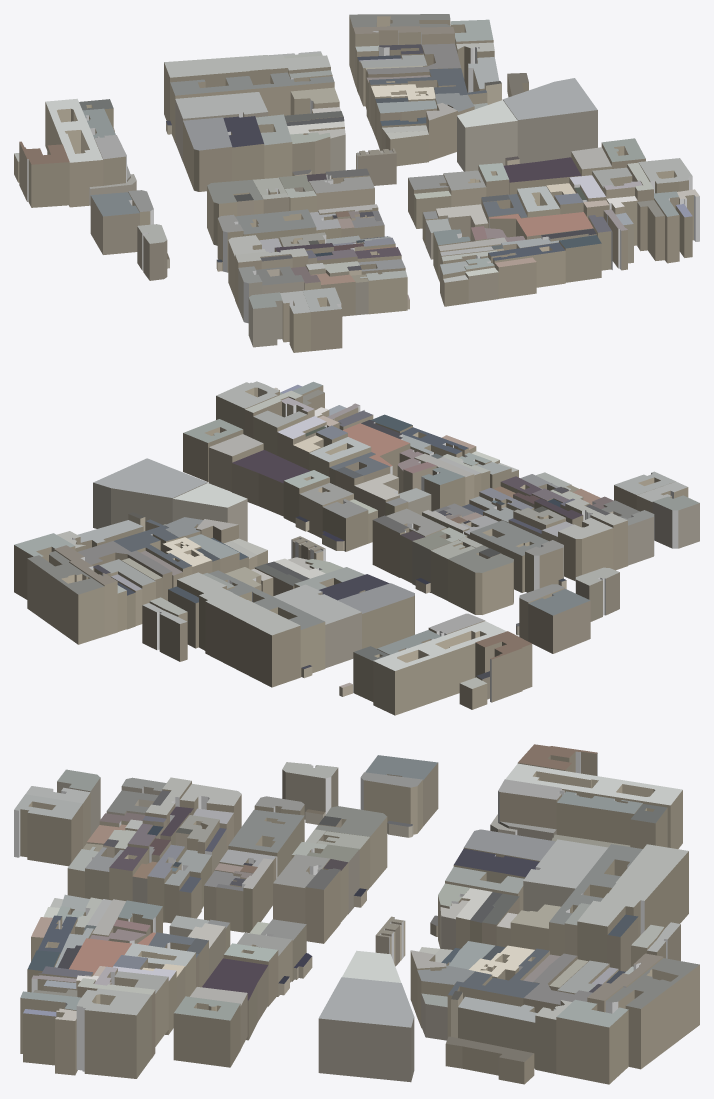
3 renders of one model, top to bottom at view 1: azimuth 30°, elevation 25°; view 2: azimuth 150°, elevation 25°; view 3: azimuth 270°, elevation 25°, orthographic. The views are drawn at different scales.
Visible parts, largest first — view 1: tuile; view 2: tuile; view 3: tuile.
Boxes of the visible parts, x1,y1,x2,y2 form: tuile: (14,14,699,352); tuile: (14,381,699,715); tuile: (14,744,699,1084).
Bounding box in the file's own units: 273 × 30.75 × 274.
